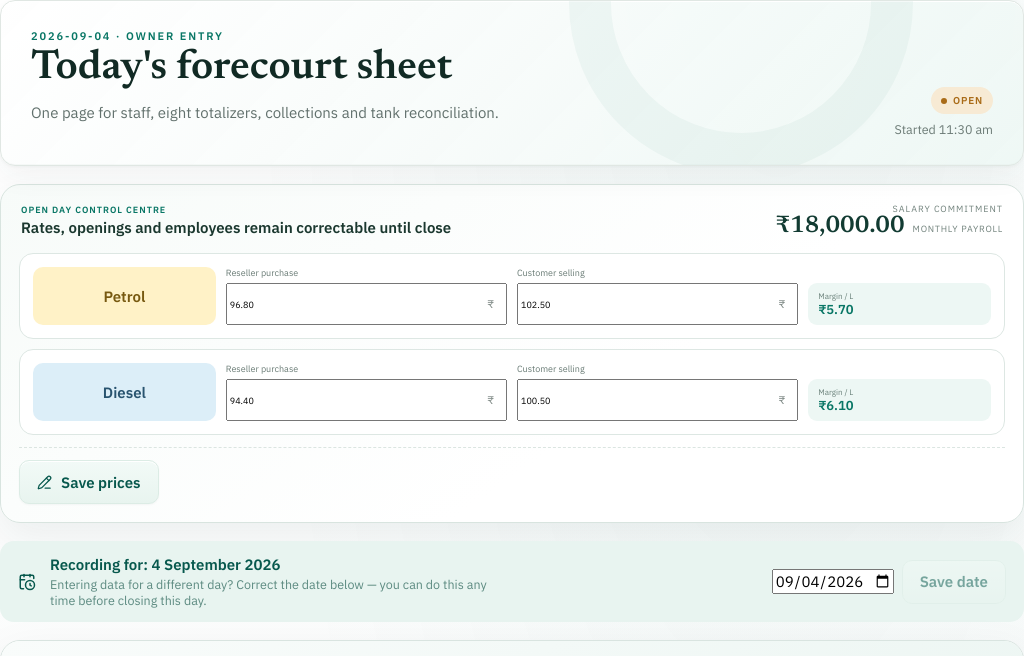
Test case: DailyForecourtSheet › blocks a future business date and warns before more entries are saved under it
Type "2026-10-04" into the date field named "Active business date". click: (833, 582)
box: [772,569,894,594]
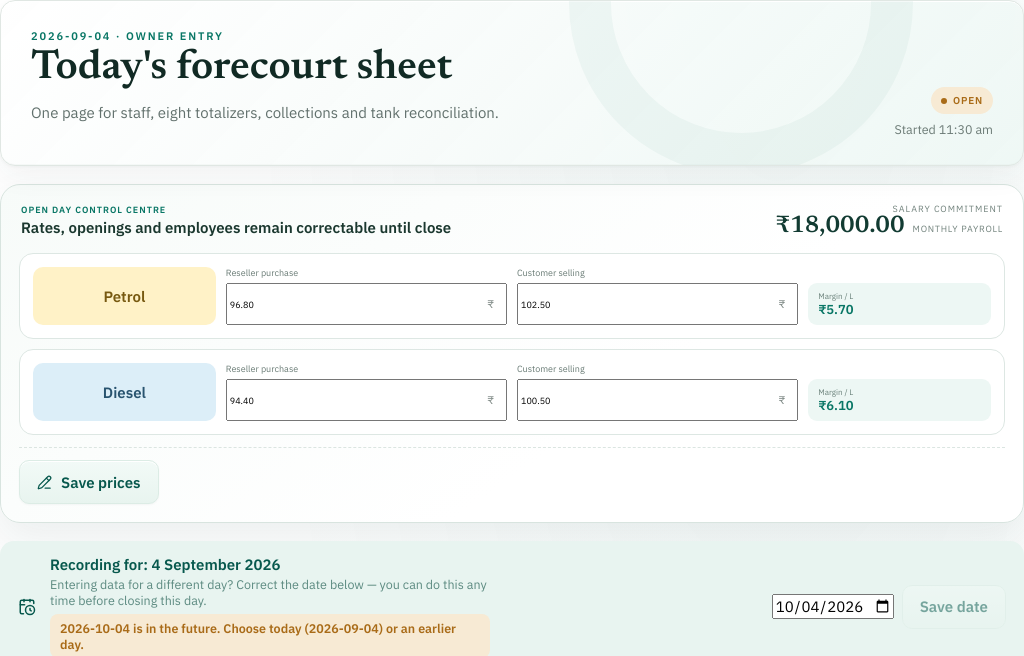
Expected: the button "Save date" is disabled, [902,585,1006,629]
Now the message reads "2026-10-04 is in the future. Choose today (2026-09-04) or an earlier day.", box [60,620,456,652]
